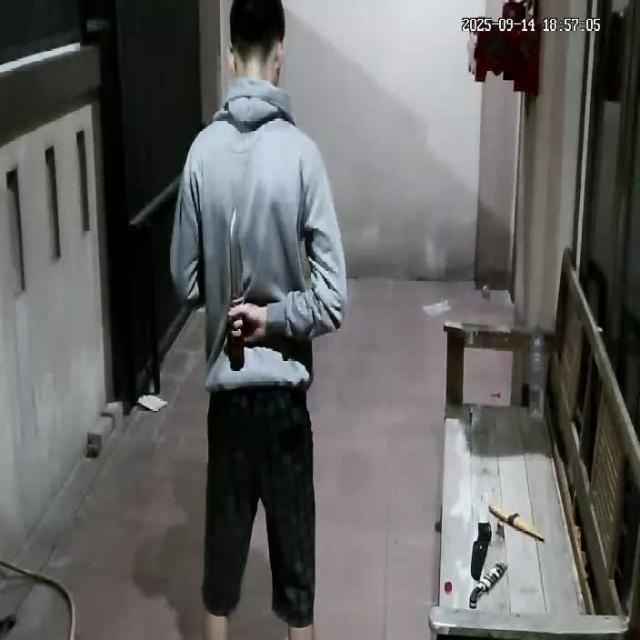senjata_tajam: (226, 204, 247, 306)
